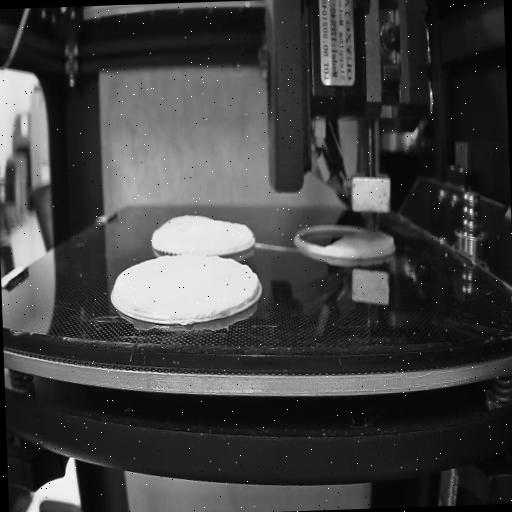over_extrusion: (242, 270, 260, 300)
